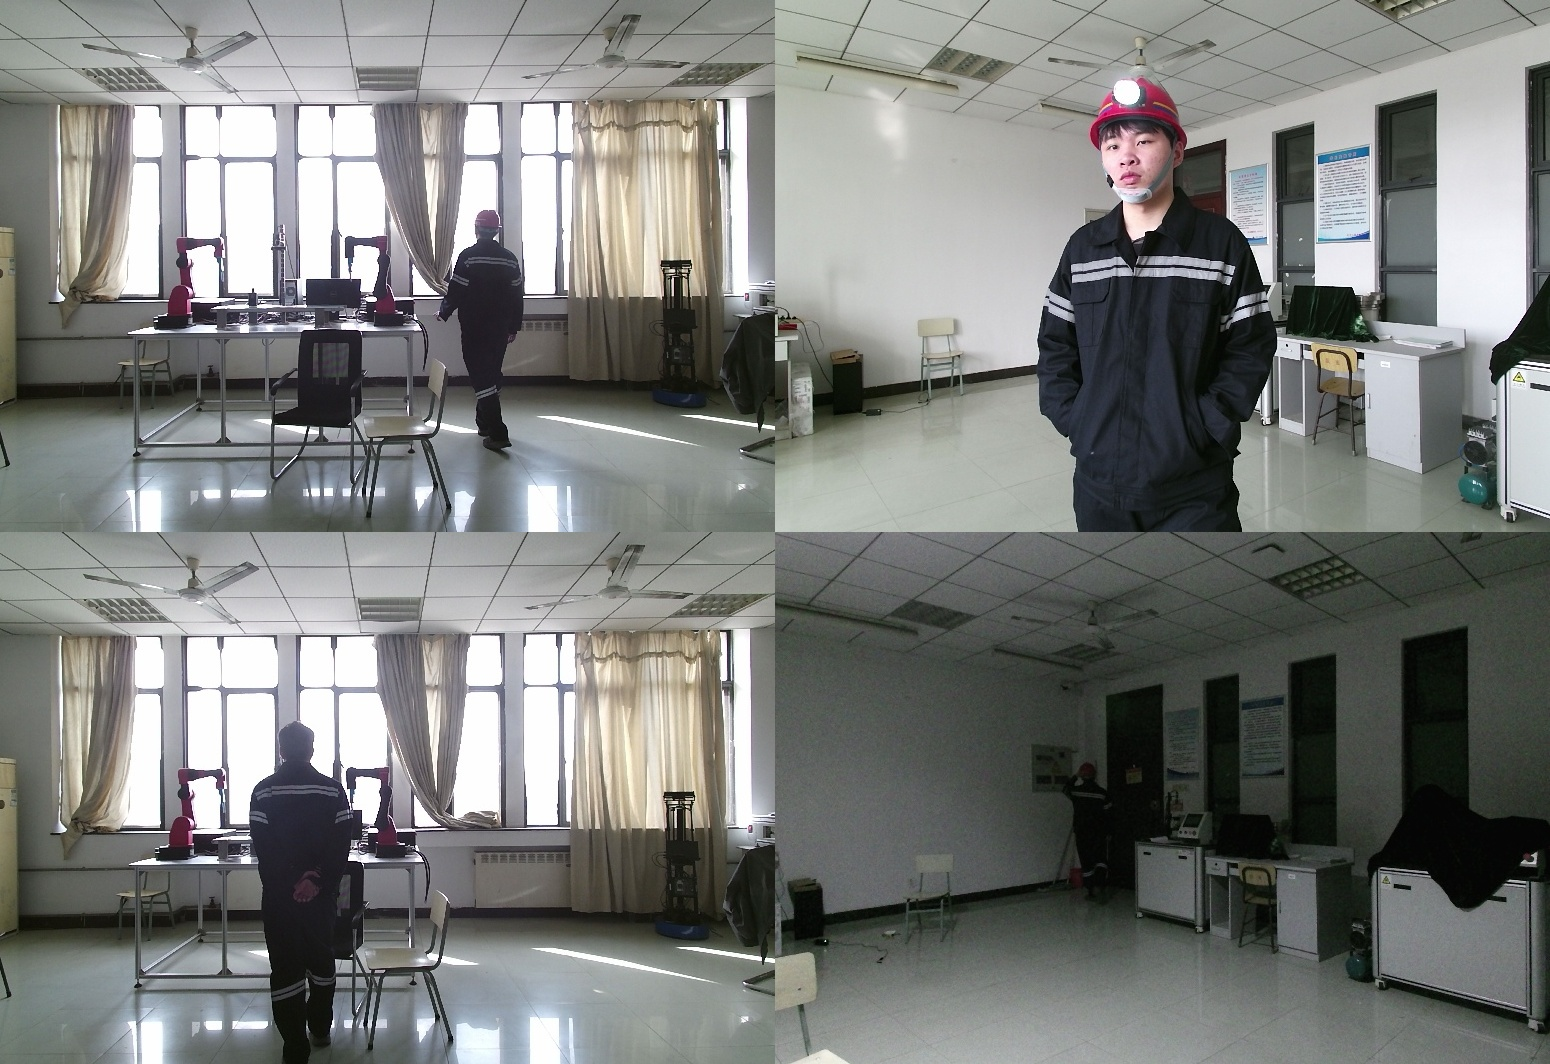person: (1039, 78, 1296, 532), (246, 724, 355, 1064), (439, 207, 529, 455), (1057, 764, 1121, 910)
